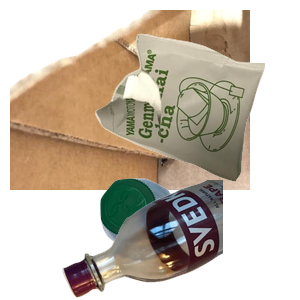cardboard: (10, 10, 250, 190)
glass: (60, 180, 300, 300)
plastic: (98, 176, 266, 300)
trash: (93, 31, 300, 205)
